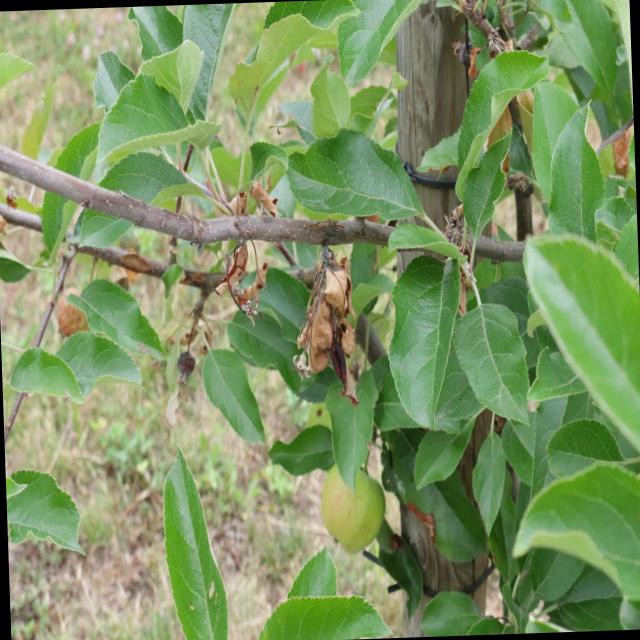-FireBlight-: (297, 235, 363, 398), (212, 226, 272, 324), (610, 121, 627, 186)
